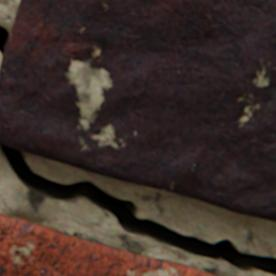brick: (0, 0, 275, 220), (0, 213, 215, 275)
crack: (0, 143, 275, 275), (0, 26, 9, 55)
